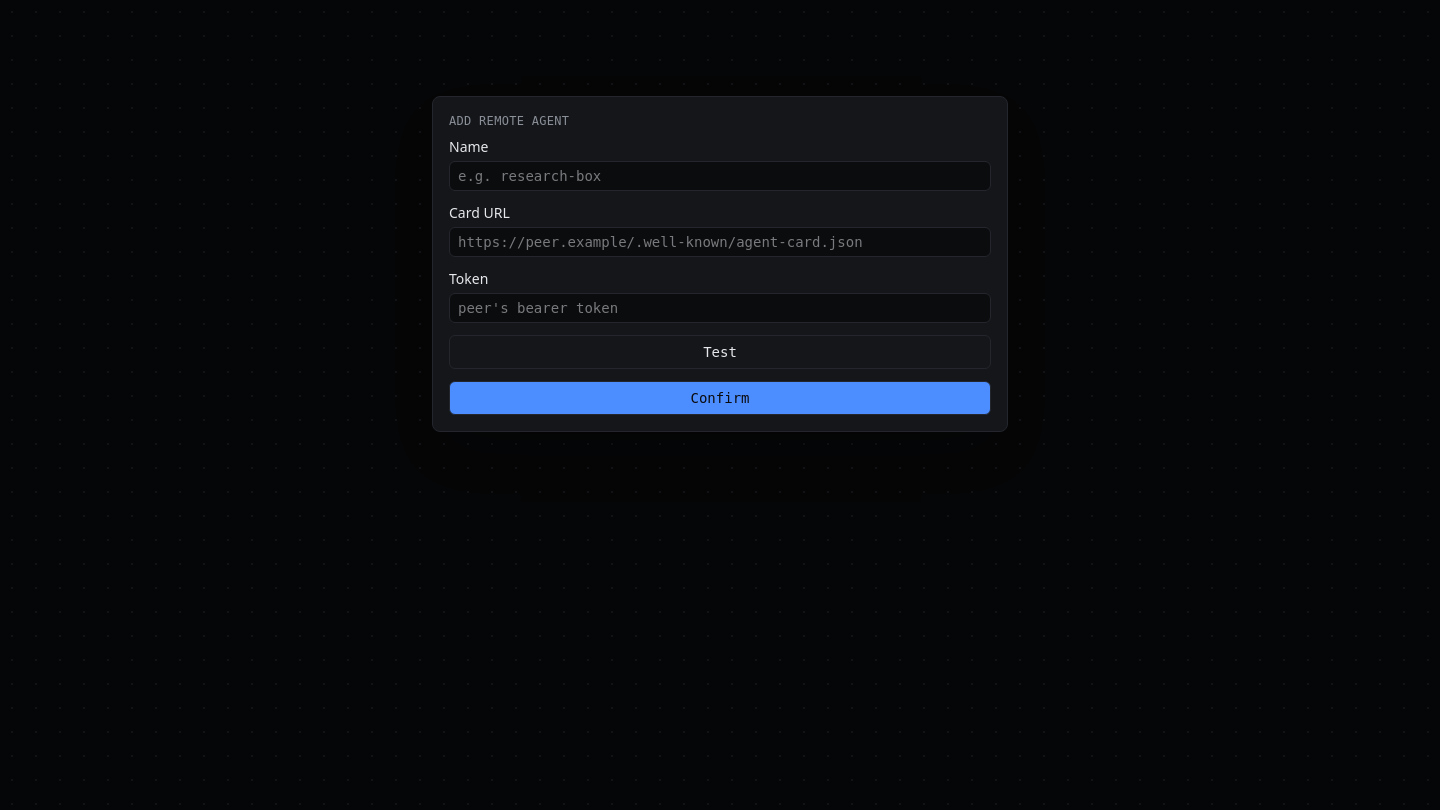
AddRemoteDialog › re-locks Confirm if the card URL changes after a successful test
Type "peer-agent" into the field with test id "add-remote-name" at [720, 176], box [449, 161, 991, 191]
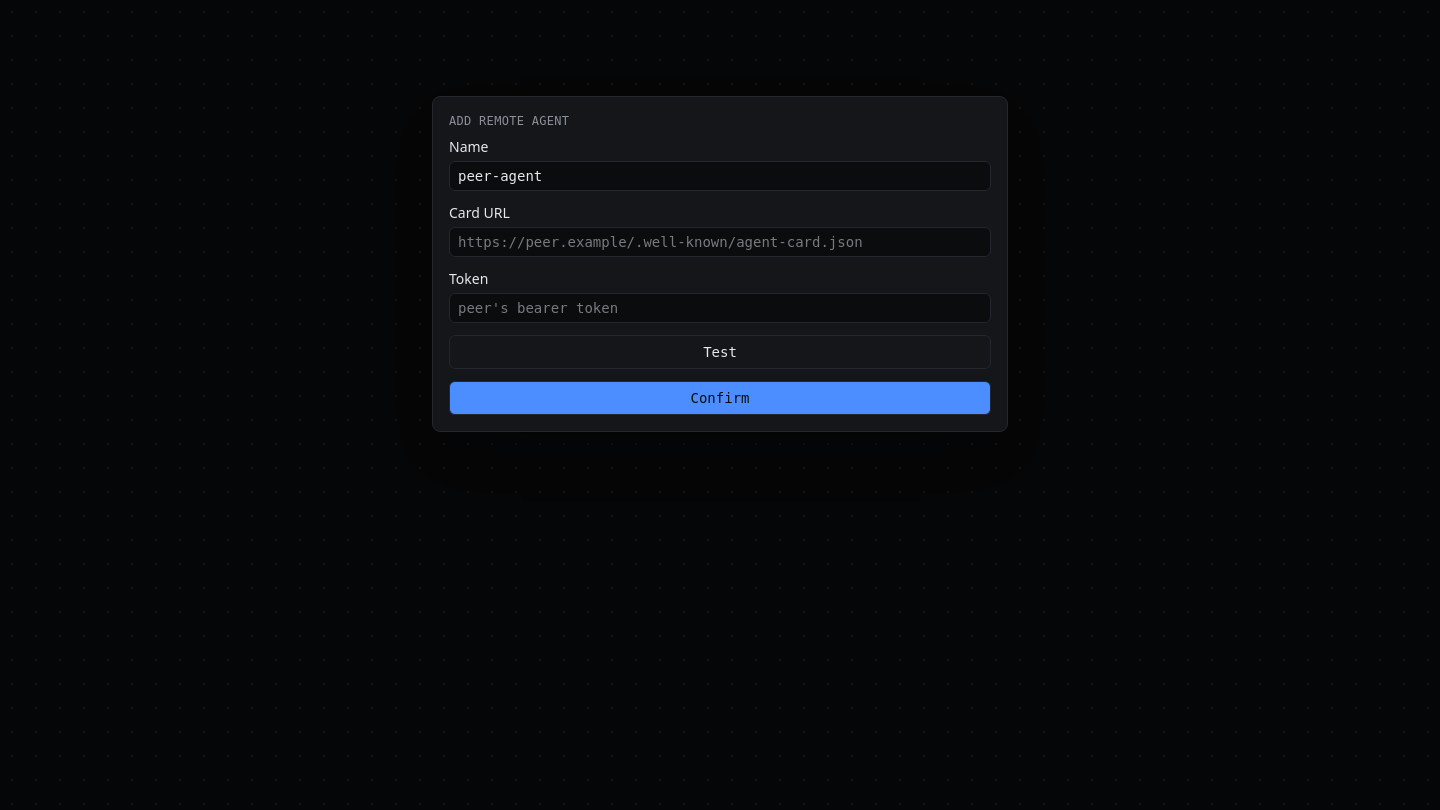
Type "http://peer.example/.well-known/agent-card.json" into the field with test id "add-remote-card-url" at [720, 242], box [449, 227, 991, 257]
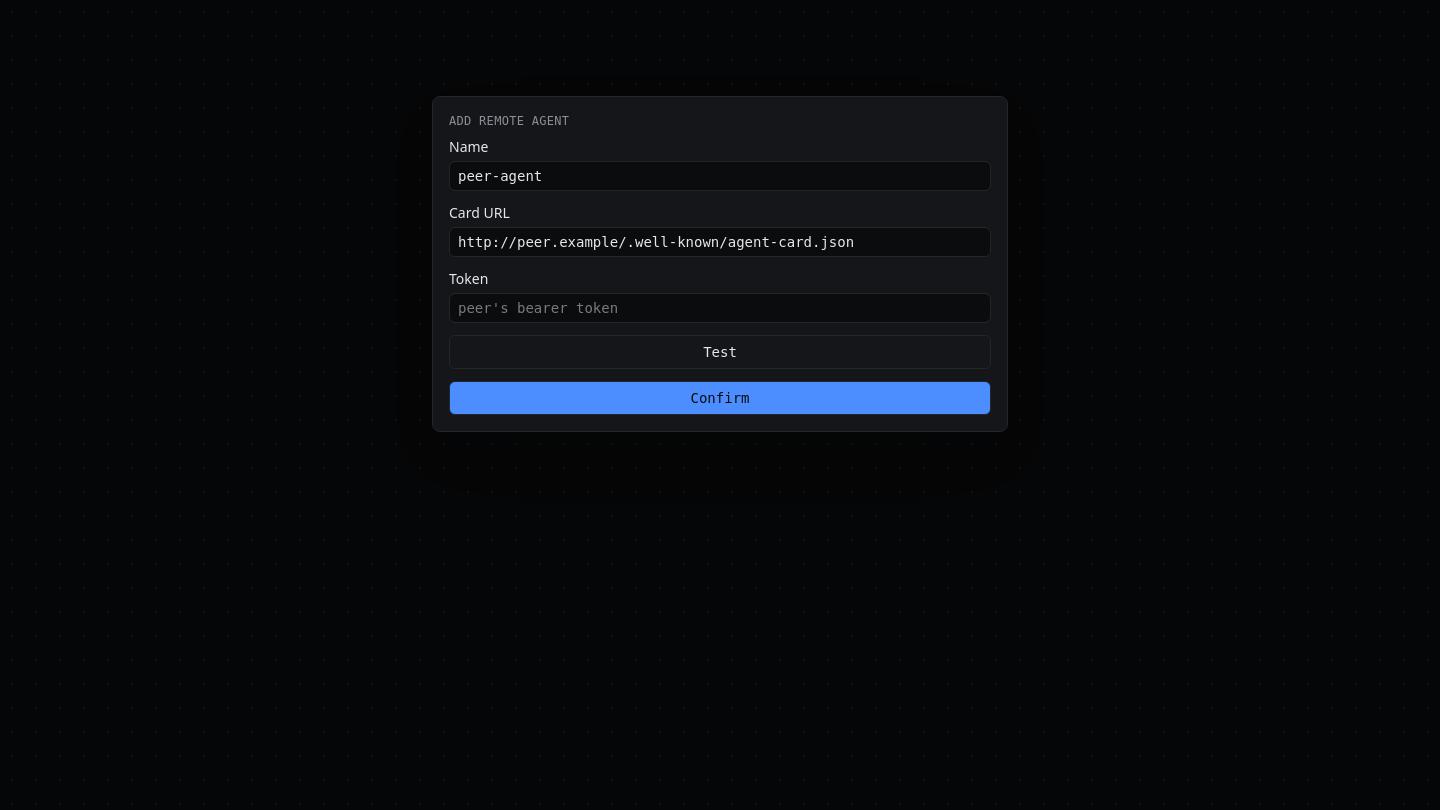
Type "peer-bearer-token" into the password field with test id "add-remote-token" at [720, 308], box [449, 293, 991, 323]
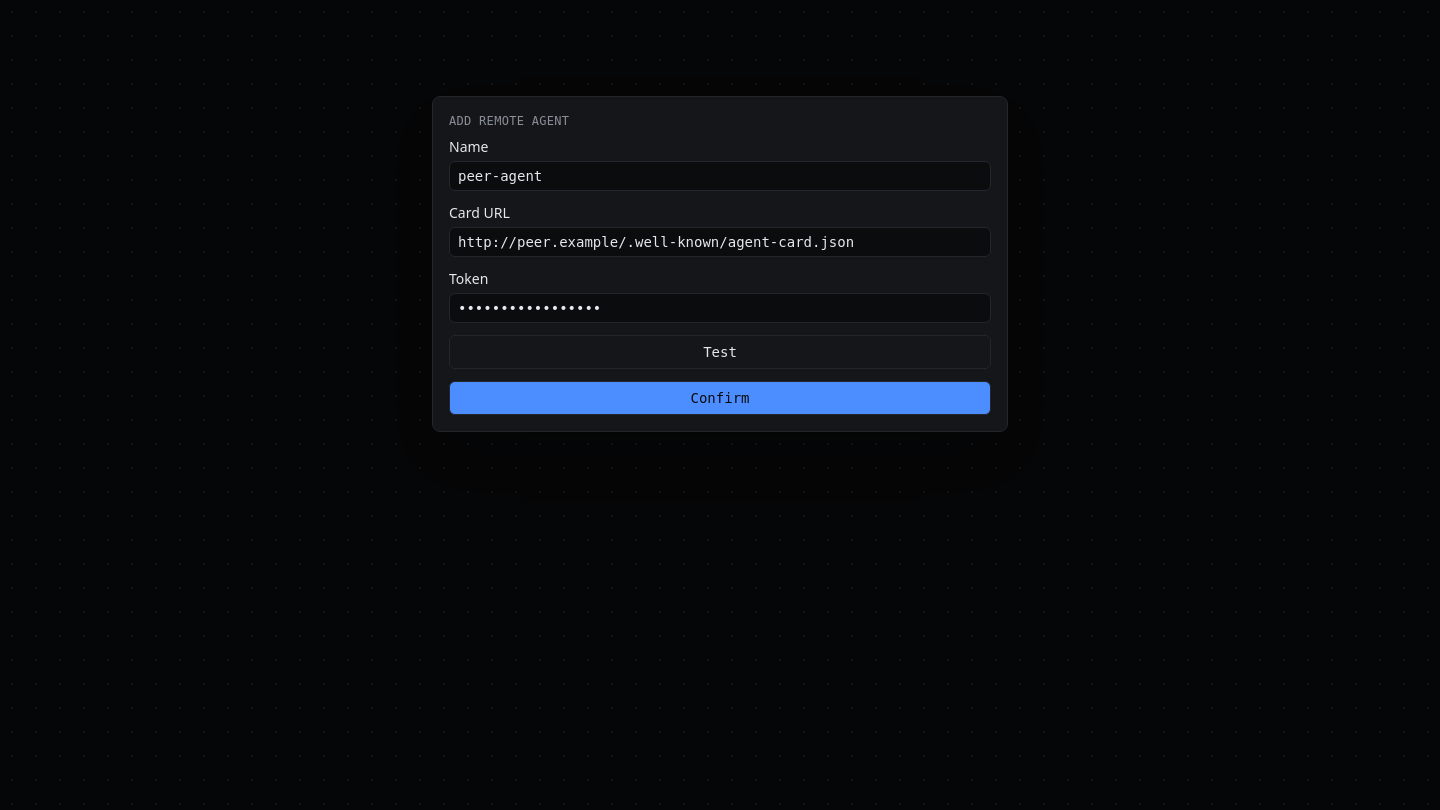
Click the button with test id "add-remote-test" at [720, 352], box [449, 335, 991, 369]
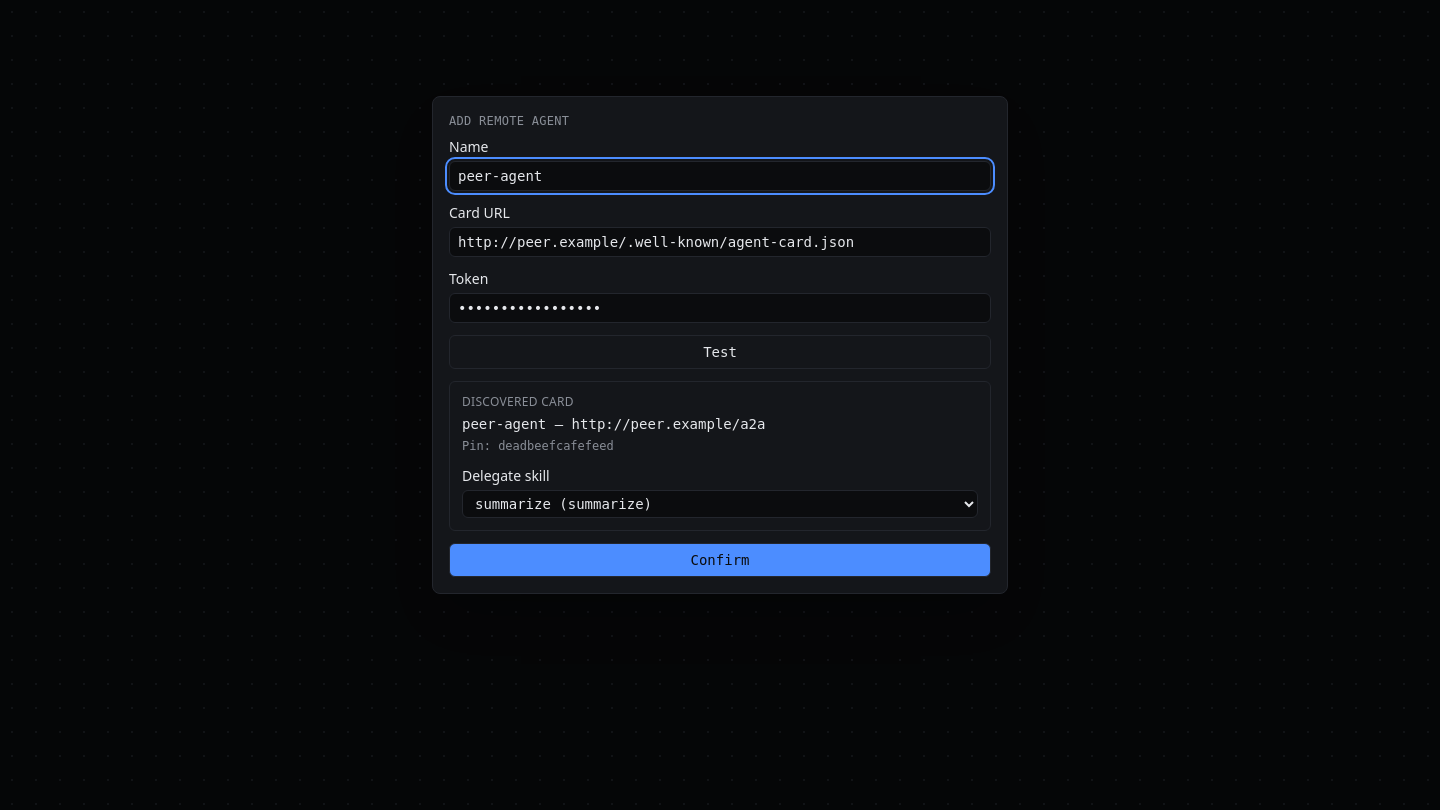
Now the element with test id "add-remote-preview" is shown, box [449, 381, 991, 531]
// Editing the URL invalidates the stale preview/pin.
Replace the text in the field with test id "add-remote-card-url" with "http://peer.example/other-card.json" at [720, 242], box [449, 227, 991, 257]
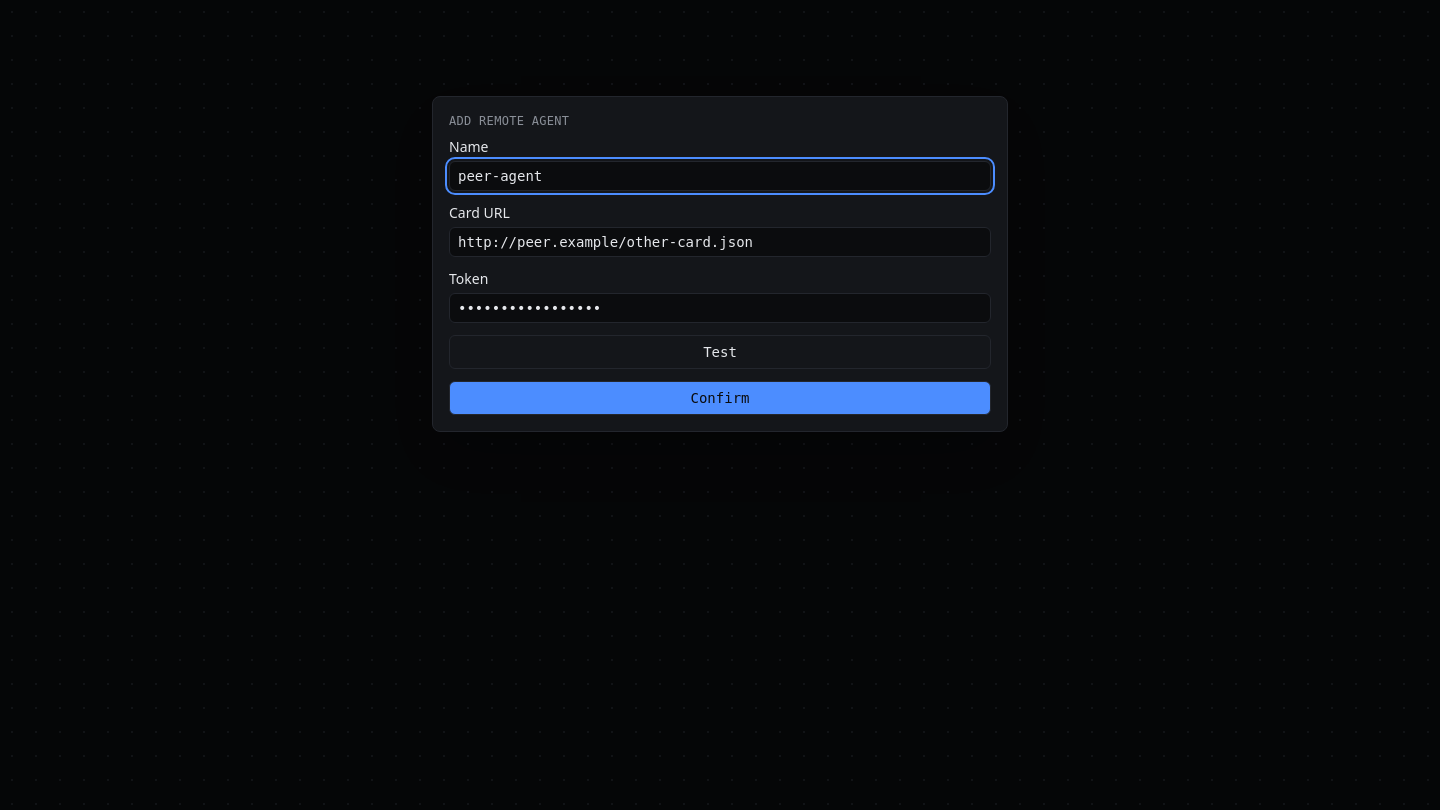
Now the element with test id "add-remote-preview" is gone
Now the button with test id "add-remote-confirm" is disabled, box [449, 381, 991, 415]
